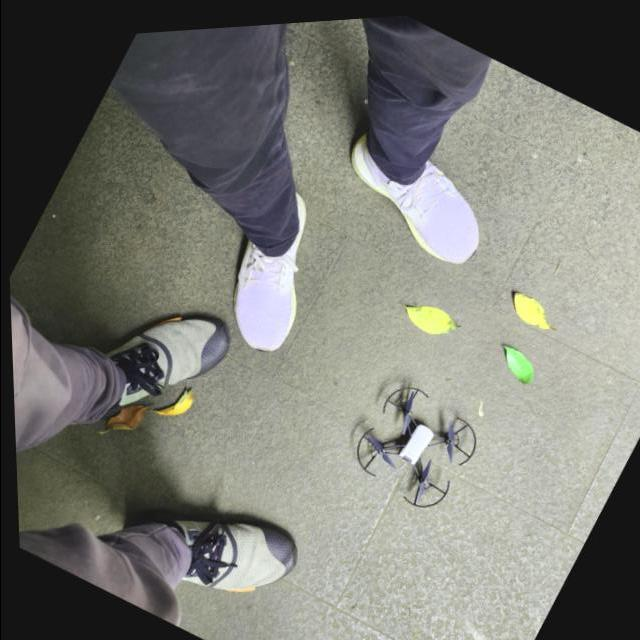drone: (354, 383, 473, 503)
